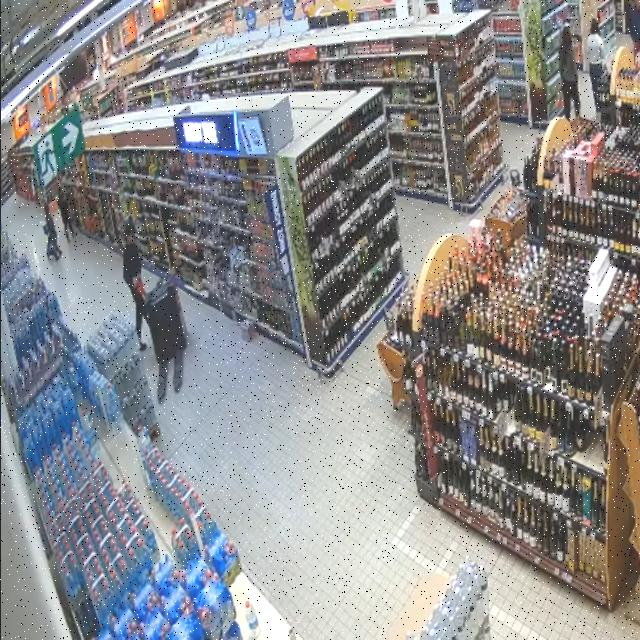hands: (133, 274, 141, 286)
person: (124, 220, 146, 350), (560, 25, 580, 120), (587, 18, 604, 104), (45, 204, 62, 260), (58, 191, 76, 241)
